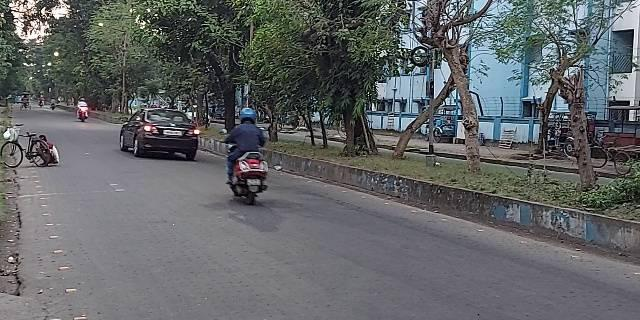Car: (128, 104, 200, 159)
Cycle: (3, 131, 56, 172)
Motorbike: (221, 115, 269, 204)
